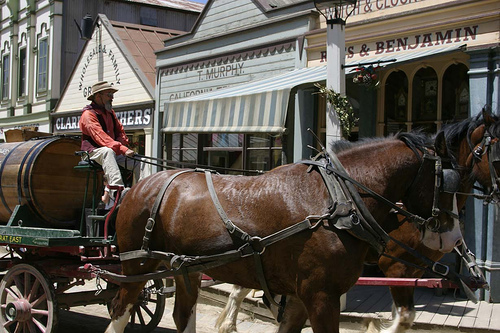horse: (101, 122, 464, 333), (214, 106, 500, 333)
